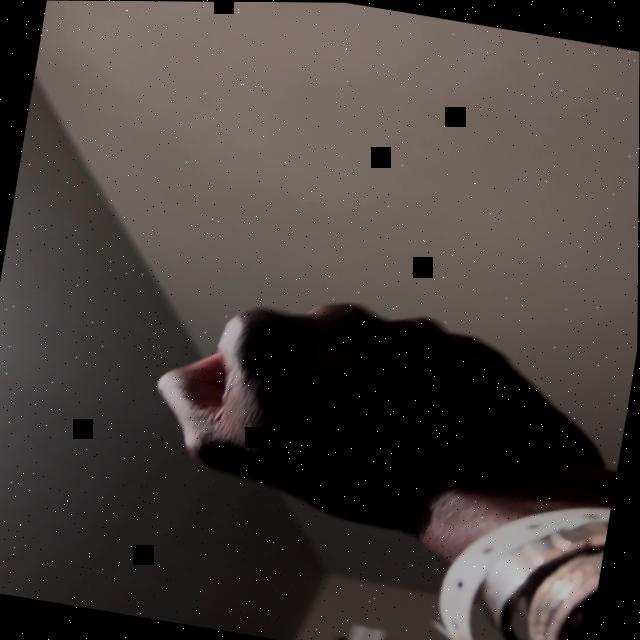Rock: (135, 270, 625, 556)
